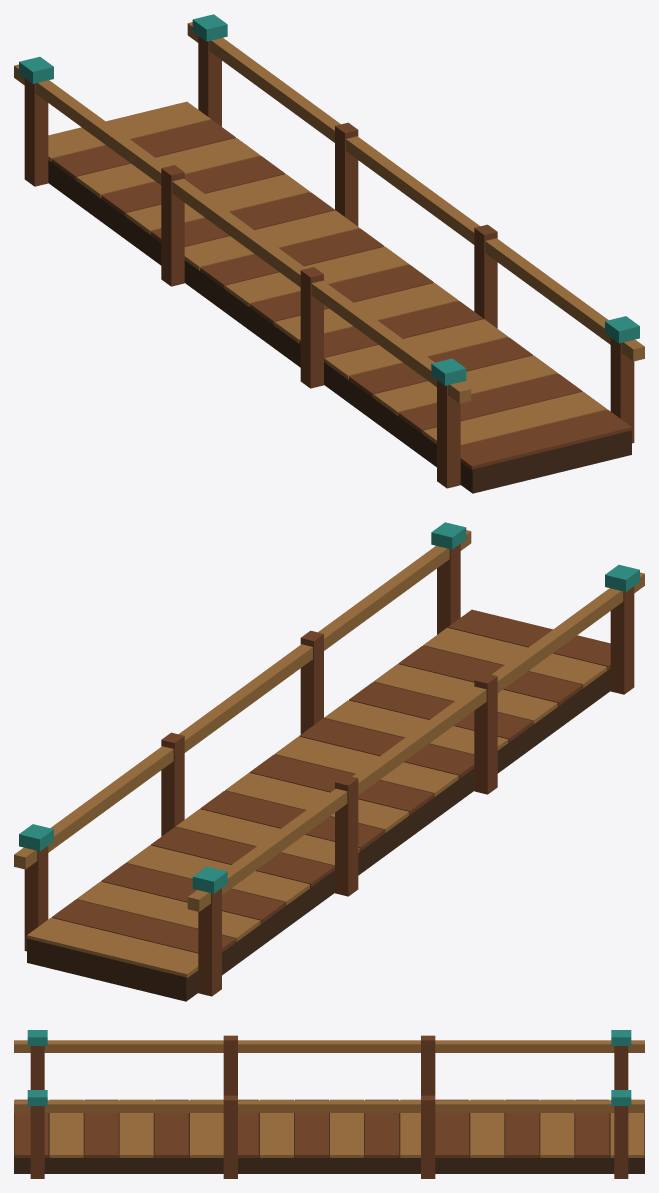
Rendered from Tropical_LagoonBridge_Showcase.glb.
3 renders of one model, top to bottom at view 1: azimuth 30°, elevation 25°; view 2: azimuth 150°, elevation 25°; view 3: azimuth 270°, elevation 25°, orthographic. The views are drawn at different scales.
Parts seen in each view (by area): view 1: Tropical_LagoonBridge_Showcase; view 2: Tropical_LagoonBridge_Showcase; view 3: Tropical_LagoonBridge_Showcase.
Boxes of the visible parts, <box> form: Tropical_LagoonBridge_Showcase: <box>14,14,644,493</box>; Tropical_LagoonBridge_Showcase: <box>14,522,644,1001</box>; Tropical_LagoonBridge_Showcase: <box>14,1030,644,1178</box>.
Bounding box in the file's own units: 2.02 × 1.16 × 8.
